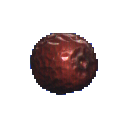gd: (21, 14, 127, 102)
